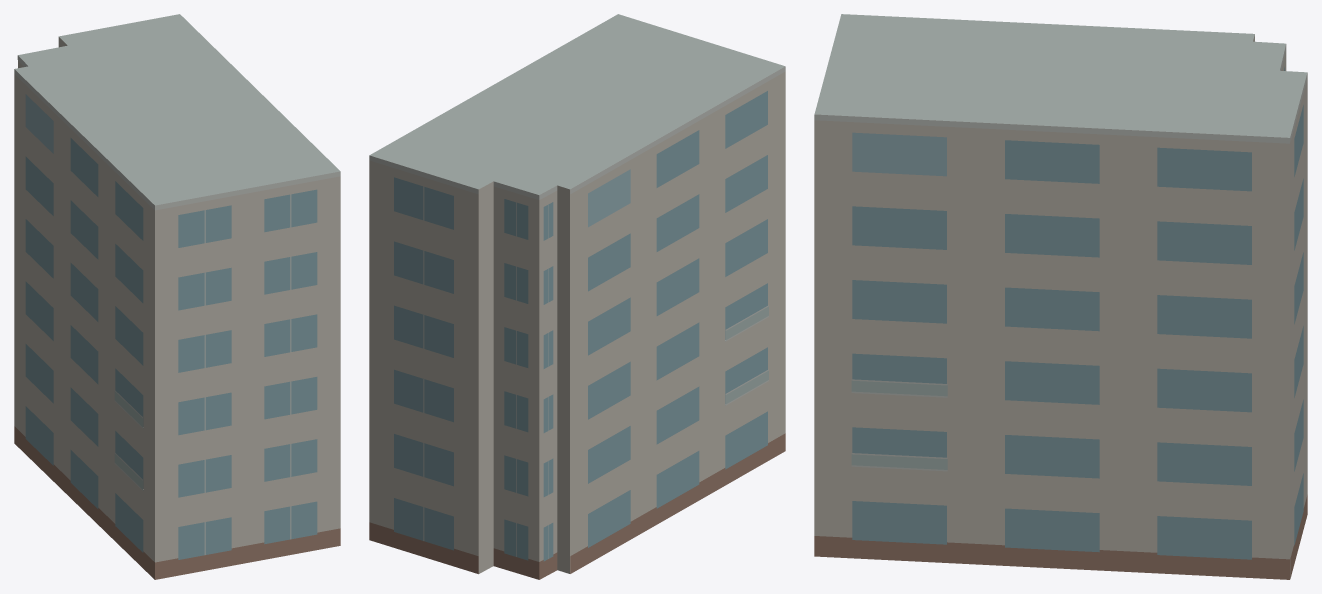
Rendered from survey-upis-32567273.glb.
3 views of the same model, side by side, from view 1: azimuth 30°, elevation 25°; view 2: azimuth 150°, elevation 25°; view 3: azimuth 270°, elevation 25° (orthographic). The views are drawn at different scales.
Parts seen in each view (by area): view 1: survey-upis-32567273.tmp; view 2: survey-upis-32567273.tmp; view 3: survey-upis-32567273.tmp.
Part boxes in pixels (x1=…): survey-upis-32567273.tmp: x1=14, y1=14, x2=340, y2=579; survey-upis-32567273.tmp: x1=369, y1=14, x2=785, y2=579; survey-upis-32567273.tmp: x1=814, y1=14, x2=1307, y2=579.
Bounding box in the file's own units: 11.25 × 18.7 × 18.92.
